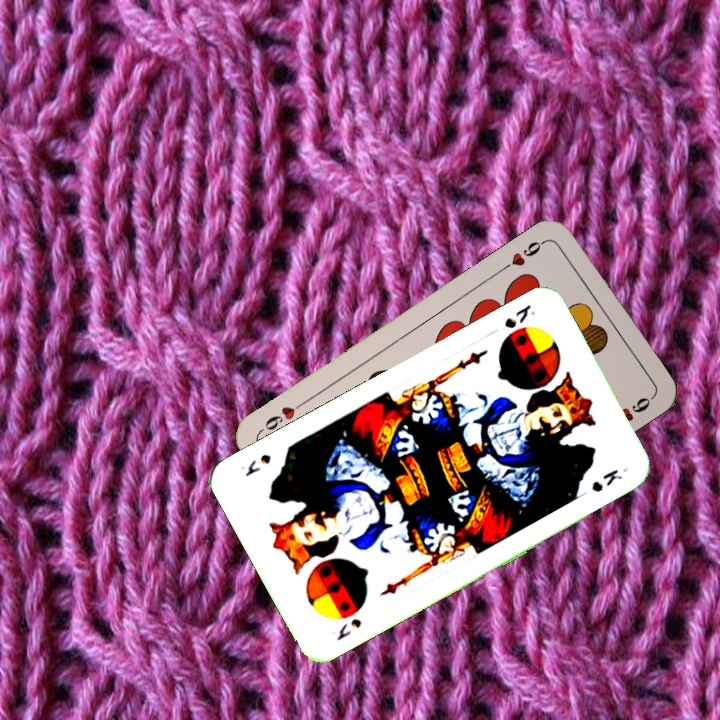H9: (497, 235, 550, 273)
SK: (500, 300, 538, 331), (332, 614, 365, 643)
